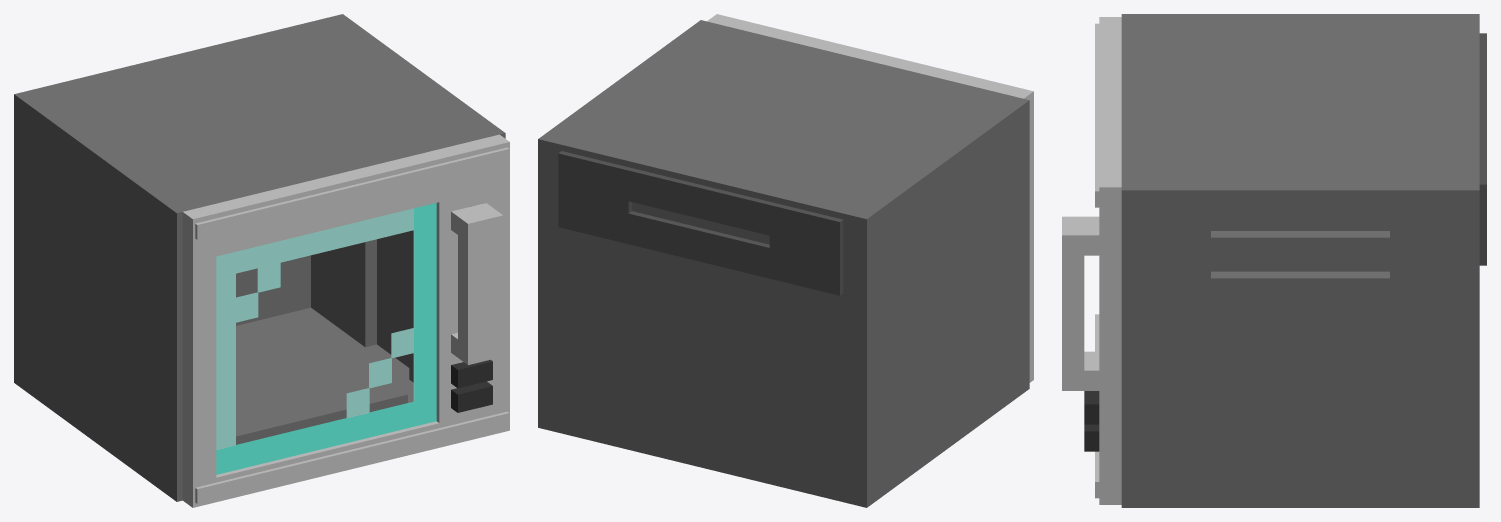
File: microwave-oven-simple-8d45c6.glb
3 renders of one model, left to right at view 1: azimuth 30°, elevation 25°; view 2: azimuth 150°, elevation 25°; view 3: azimuth 270°, elevation 25°, orthographic. The views are drawn at different scales.
Parts seen in each view (by area): view 1: PropMesh; view 2: PropMesh; view 3: PropMesh.
Boxes of the visible parts, x1,y1,x2,y2 form: PropMesh: (14,14,509,507); PropMesh: (538,14,1033,507); PropMesh: (1062,14,1486,507).
Bounding box in the file's own units: 0.417 × 0.35 × 0.4245.
Materials: 5 (5 with a texture image).
